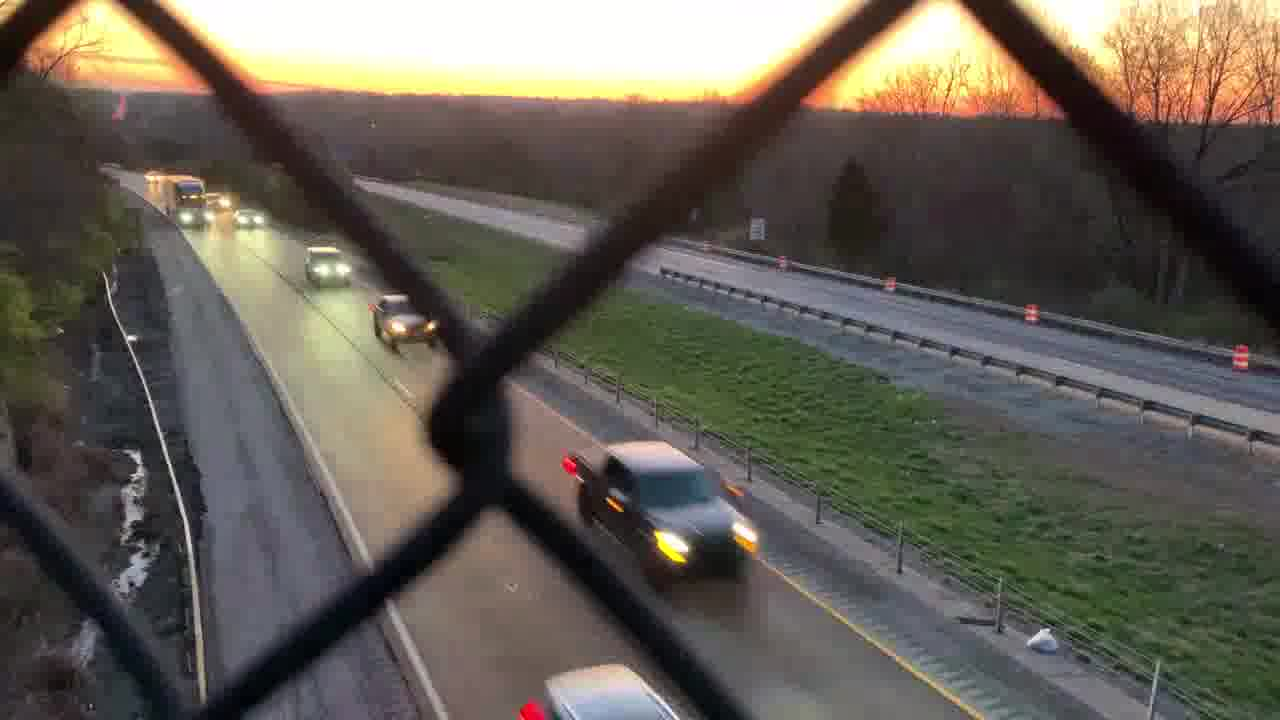lightTruck: (559, 437, 766, 590)
